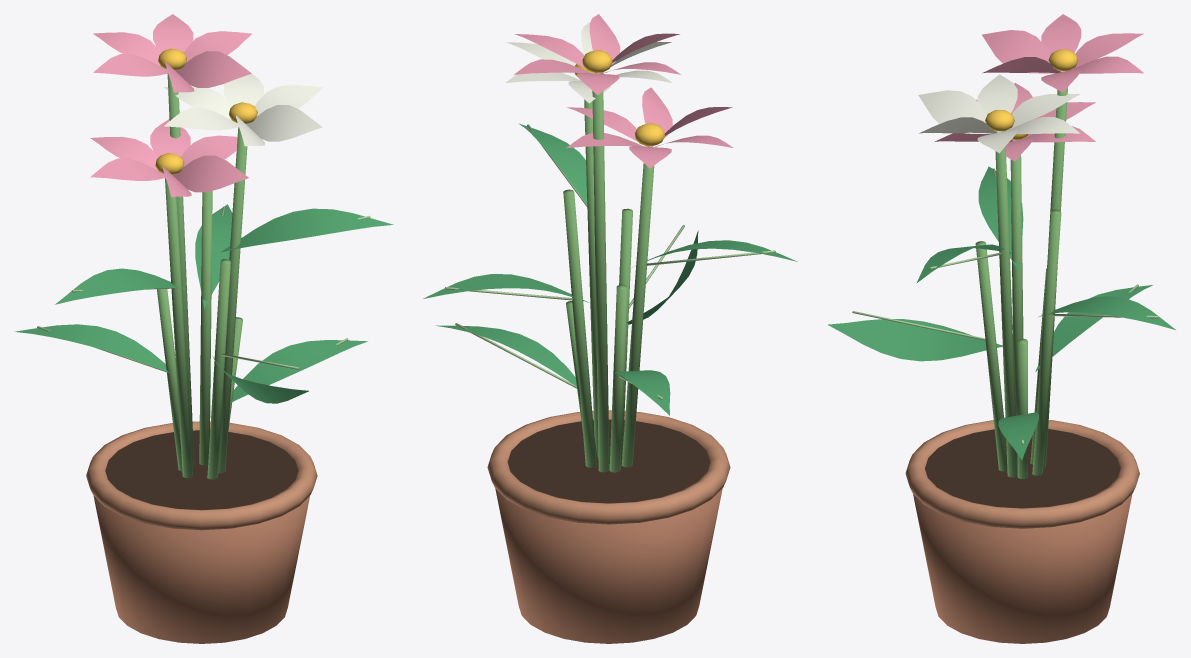
File: lily.glb
3 views of the same model, side by side, from view 1: azimuth 30°, elevation 25°; view 2: azimuth 150°, elevation 25°; view 3: azimuth 270°, elevation 25° (orthographic). The views are drawn at different scales.
Visible parts, largest first — view 1: pot_static, soil_static, pot_rim_static, stem_g340_lily_4, stem_g410_lily_5, leaf_g450_lily_leaf_5, stem_g270_lily_3, leaf_g100_lily_leaf_0, stem_g200_lily_2, leaf_g170_lily_leaf_1, leaf_g380_lily_leaf_4, stem_g480_lily_6 (+18 smaller); view 2: pot_static, soil_static, pot_rim_static, stem_g480_lily_6, stem_g340_lily_4, stem_g270_lily_3, stem_g410_lily_5, stem_g130_lily_1, leaf_g100_lily_leaf_0, leaf_g450_lily_leaf_5, leaf_g310_lily_leaf_3, stem_g200_lily_2 (+16 smaller); view 3: pot_static, soil_static, pot_rim_static, leaf_g240_lily_leaf_2, stem_g410_lily_5, stem_g270_lily_3, stem_g200_lily_2, stem_g340_lily_4, leaf_g310_lily_leaf_3, leaf_g720_lily_bloom_6_04, leaf_g650_lily_bloom_5_04, stem_g480_lily_6 (+18 smaller).
Part boxes in pixels (x1,y1,x2,y2): pot_static: [93, 496, 309, 643]; soil_static: [105, 430, 298, 509]; pot_rim_static: [86, 421, 317, 530]; stem_g340_lily_4: [165, 178, 192, 477]; stem_g410_lily_5: [218, 127, 247, 473]; leaf_g450_lily_leaf_5: [220, 208, 393, 252]; stem_g270_lily_3: [199, 191, 212, 465]; leaf_g100_lily_leaf_0: [231, 340, 367, 402]; stem_g200_lily_2: [207, 259, 230, 479]; leaf_g170_lily_leaf_1: [14, 324, 168, 372]; leaf_g380_lily_leaf_4: [55, 268, 187, 304]; stem_g480_lily_6: [167, 74, 194, 466]; pot_static: [495, 488, 722, 643]; soil_static: [507, 419, 710, 503]; pot_rim_static: [487, 410, 730, 524]; stem_g480_lily_6: [592, 73, 609, 472]; stem_g340_lily_4: [621, 146, 654, 467]; stem_g270_lily_3: [563, 189, 596, 467]; stem_g410_lily_5: [584, 99, 598, 457]; stem_g130_lily_1: [609, 284, 627, 472]; leaf_g100_lily_leaf_0: [436, 325, 591, 397]; leaf_g450_lily_leaf_5: [518, 123, 594, 216]; leaf_g310_lily_leaf_3: [423, 274, 589, 302]; stem_g200_lily_2: [619, 208, 632, 456]; pot_static: [913, 494, 1132, 643]; soil_static: [925, 429, 1120, 508]; pot_rim_static: [905, 420, 1139, 528]; leaf_g240_lily_leaf_2: [828, 319, 1002, 361]; stem_g410_lily_5: [995, 146, 1017, 477]; stem_g270_lily_3: [1032, 209, 1061, 475]; stem_g200_lily_2: [975, 241, 1007, 471]; stem_g340_lily_4: [1010, 155, 1023, 458]; leaf_g310_lily_leaf_3: [1039, 296, 1175, 329]; leaf_g720_lily_bloom_6_04: [982, 30, 1061, 73]; leaf_g650_lily_bloom_5_04: [918, 90, 998, 133]; stem_g480_lily_6: [1043, 87, 1067, 468].
Bounding box in the file's own units: 0.6431 × 1.02 × 0.5816.
